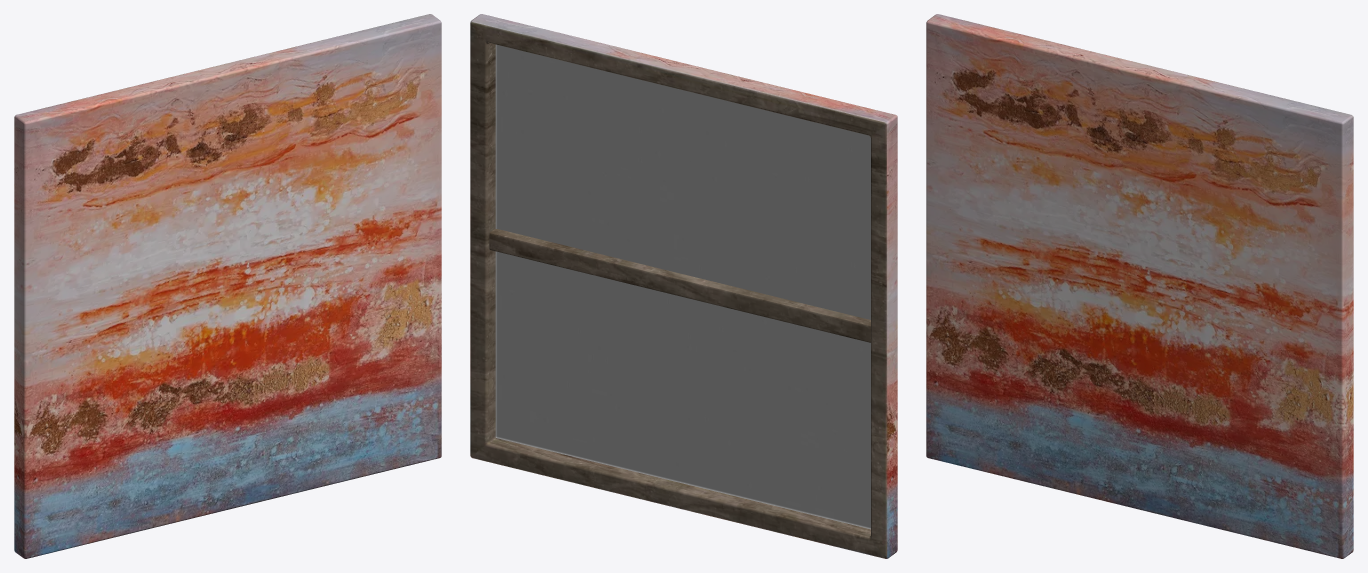
File: B07HSM4J4Y.glb
3 renders of one model, left to right at view 1: azimuth 30°, elevation 25°; view 2: azimuth 150°, elevation 25°; view 3: azimuth 330°, elevation 25°, orthographic.
Visible parts, largest first — view 1: RootNode; view 2: RootNode; view 3: RootNode.
Part boxes in pixels (x1=…): RootNode: x1=14, y1=14, x2=441, y2=558; RootNode: x1=470, y1=14, x2=897, y2=558; RootNode: x1=926, y1=14, x2=1353, y2=558.
Bounding box in the file's own units: 0.7467 × 0.7467 × 0.0354.
Materials: 1 (1 with a texture image).
